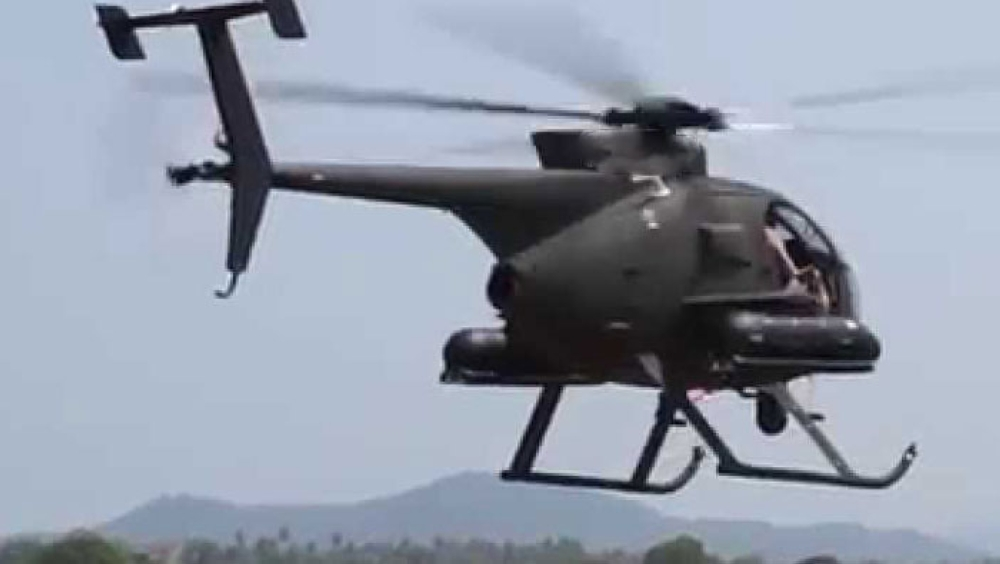MilitaryHelicopter: (93, 3, 937, 510)
